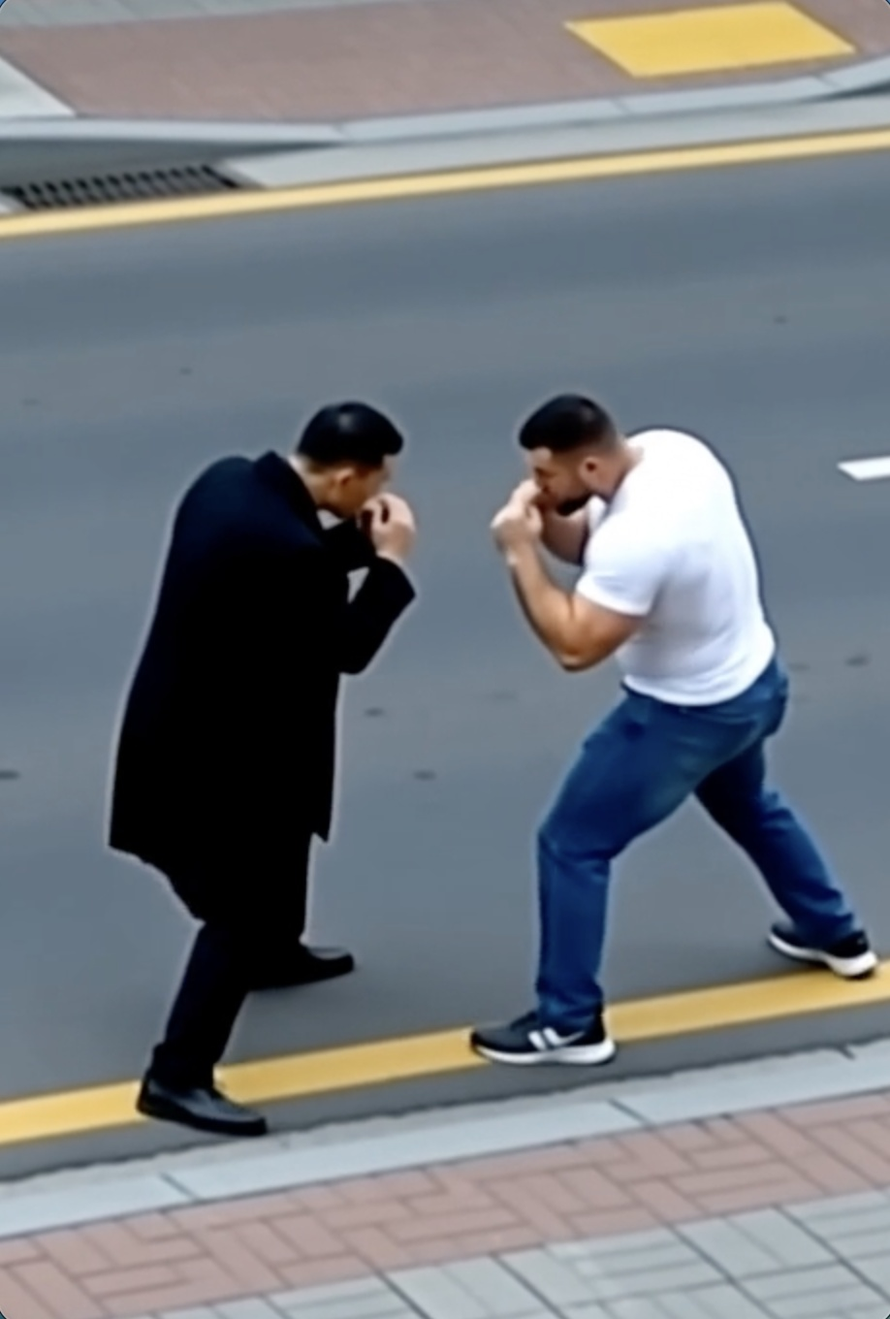Assault: (106, 400, 421, 1138)
Fighting: (467, 393, 880, 1067)
